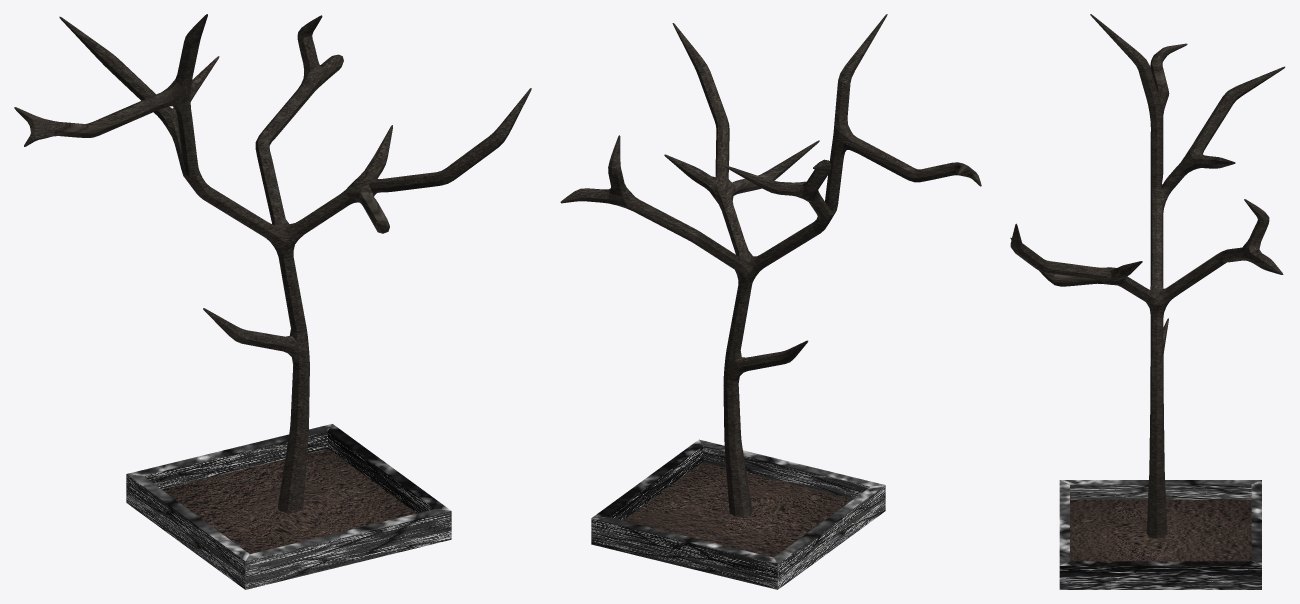
The model's file is tree.obj.
The picture shows the model from 3 angles, left to right: view 1: azimuth 30°, elevation 25°; view 2: azimuth 150°, elevation 25°; view 3: azimuth 270°, elevation 25°; orthographic projection. The views are drawn at different scales.
Parts seen in each view (by area): view 1: Cube_Cube.001; view 2: Cube_Cube.001; view 3: Cube_Cube.001.
Boxes of the visible parts, x1,y1,x2,y2 form: Cube_Cube.001: (14, 14, 531, 589); Cube_Cube.001: (560, 14, 981, 589); Cube_Cube.001: (1010, 14, 1285, 589).
Size of the model in its own units: 10.29 by 13.15 by 6.8.
Materials: 1 (1 with a texture image).
